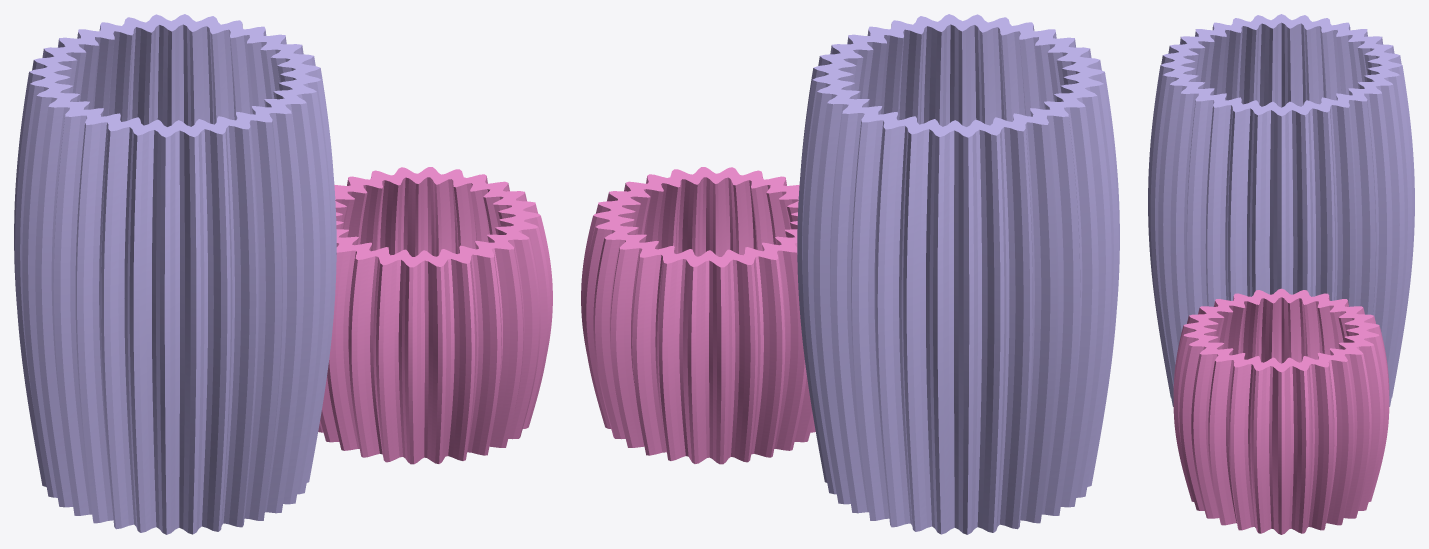
Rendered from desk-organizer.glb.
3 renders of one model, left to right at view 1: azimuth 30°, elevation 25°; view 2: azimuth 150°, elevation 25°; view 3: azimuth 270°, elevation 25°, orthographic. The views are drawn at different scales.
Visible parts, largest first — view 1: TallCup, SmallCup; view 2: TallCup, SmallCup; view 3: TallCup, SmallCup.
Boxes of the visible parts, x1,y1,x2,y2 form: TallCup: (14, 14, 336, 534); SmallCup: (318, 167, 552, 464); TallCup: (797, 14, 1119, 534); SmallCup: (581, 167, 815, 464); TallCup: (1148, 14, 1414, 406); SmallCup: (1173, 288, 1389, 534).
Bounding box in the file's own units: 2.34 × 1.8 × 1.31.
